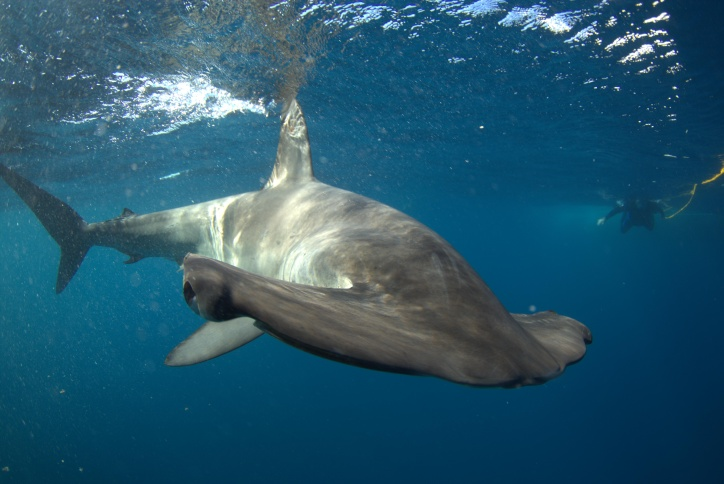Hammer: (1, 43, 600, 420)
